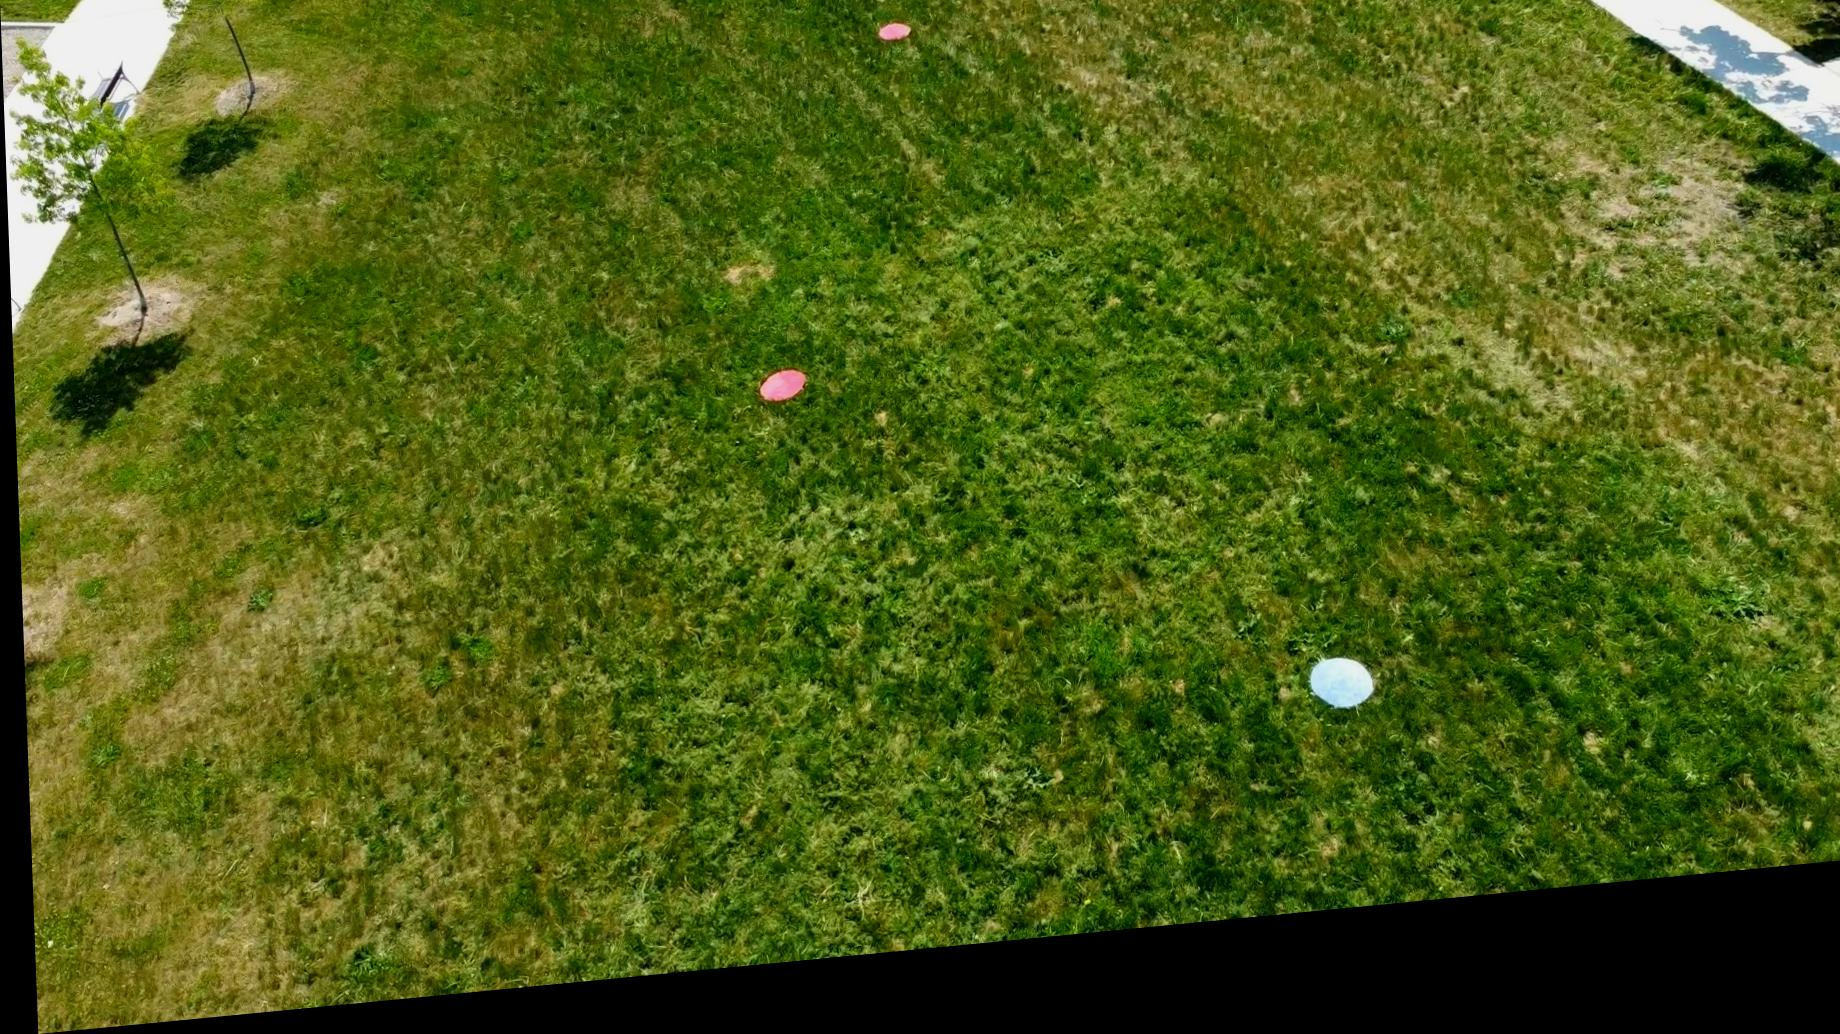Blue: (1300, 678, 1371, 741)
Red: (752, 382, 808, 421), (877, 37, 912, 62)
